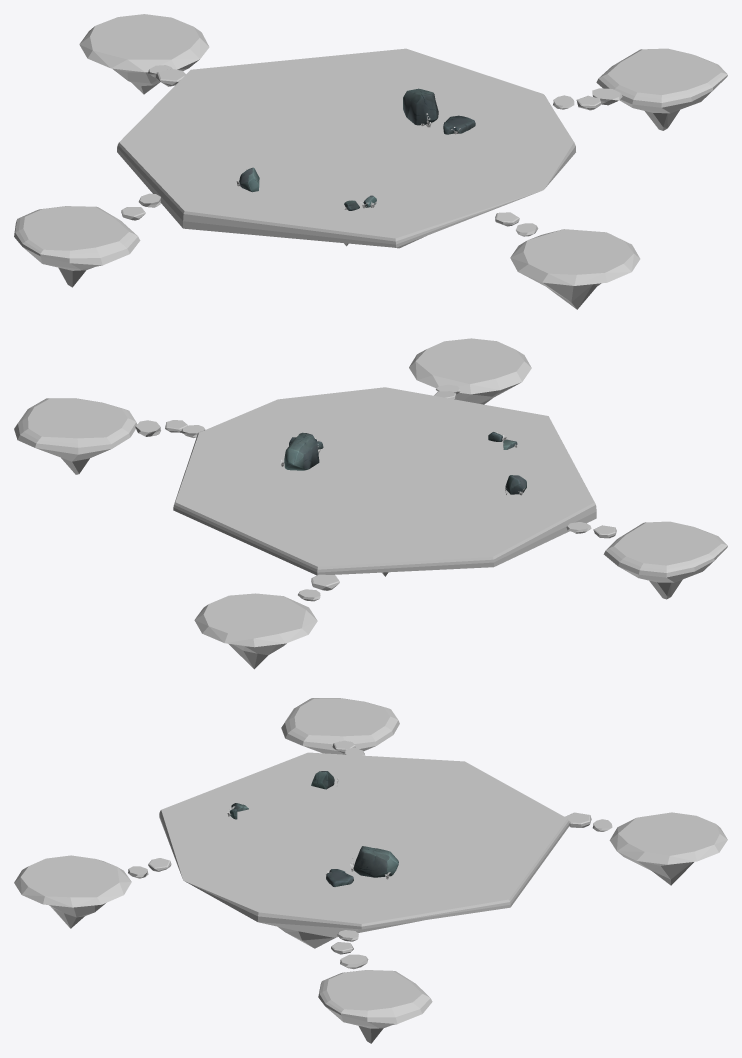
Rendered from islands_set_flat.obj.
3 views of the same model, one above another, from view 1: azimuth 30°, elevation 25°; view 2: azimuth 150°, elevation 25°; view 3: azimuth 270°, elevation 25° (orthographic). The views are drawn at different scales.
Visible parts, largest first — view 1: island0.1.soil, island2.soil, island1.soil, island1.rock, island2.rock, stair2.soil, stair1.soil, decoration.rock.2, decoration.rock.1; view 2: island0.1.soil, island1.soil, island2.soil, island1.rock, stair2.soil, island2.rock, decoration.rock.2, stair1.soil; view 3: island0.1.soil, island1.soil, island2.soil, island2.rock, island0.1.rock, decoration.rock.2, stair2.soil, stair1.soil, island1.rock.
Boxes of the visible parts, <box> form: island0.1.soil: <box>117,48,575,247</box>; island2.soil: <box>79,14,640,285</box>; island1.soil: <box>14,48,727,265</box>; island1.rock: <box>23,91,712,287</box>; island2.rock: <box>112,59,601,309</box>; stair2.soil: <box>138,65,622,235</box>; stair1.soil: <box>121,69,600,225</box>; decoration.rock.2: <box>403,88,438,125</box>; decoration.rock.1: <box>443,115,475,134</box>; island0.1.soil: <box>173,387,596,575</box>; island1.soil: <box>14,398,727,577</box>; island2.soil: <box>194,338,531,647</box>; island1.rock: <box>36,448,713,599</box>; stair2.soil: <box>135,384,591,600</box>; island2.rock: <box>228,382,520,669</box>; decoration.rock.2: <box>284,432,319,470</box>; stair1.soil: <box>165,391,616,590</box>; island0.1.soil: <box>159,752,569,929</box>; island1.soil: <box>281,698,432,1023</box>; island2.soil: <box>14,812,727,907</box>; island2.rock: <box>49,851,693,928</box>; island0.1.rock: <box>259,920,423,948</box>; decoration.rock.2: <box>353,846,398,877</box>; stair2.soil: <box>128,748,612,967</box>; stair1.soil: <box>148,740,591,954</box>; island1.rock: <box>303,746,396,1043</box>.
Bounding box in the file's own units: 17.66 × 3.12 × 16.91.
